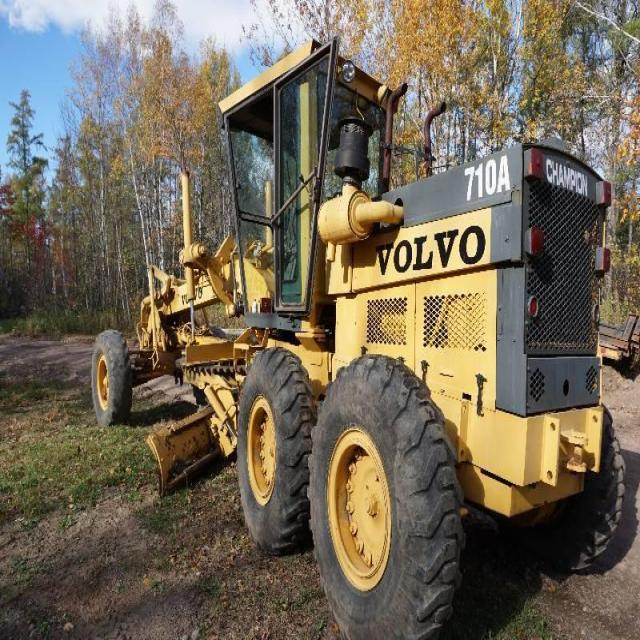Grader: (76, 29, 634, 624)
